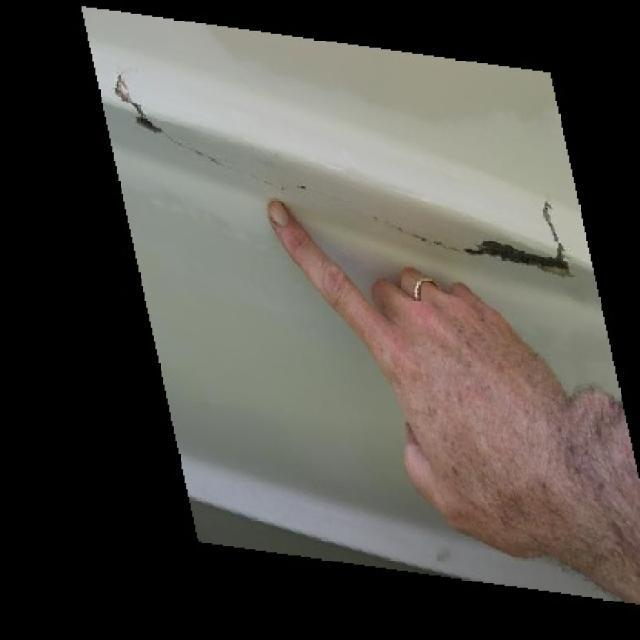crack: (375, 221, 480, 254), (115, 77, 163, 134), (167, 135, 220, 163)
